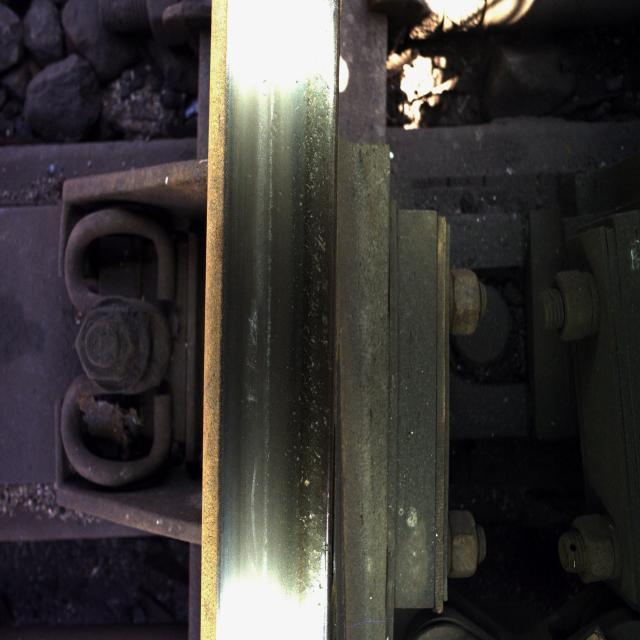scar: (247, 56, 335, 594)
